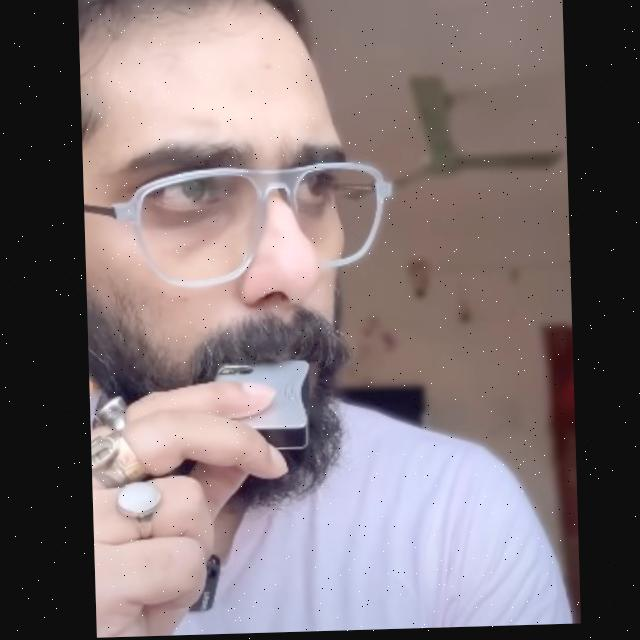vape: (209, 360, 312, 456)
